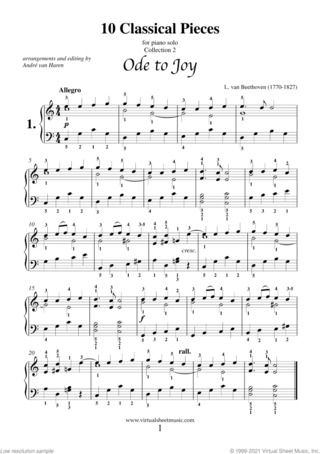Partitura: (17, 14, 313, 436)
